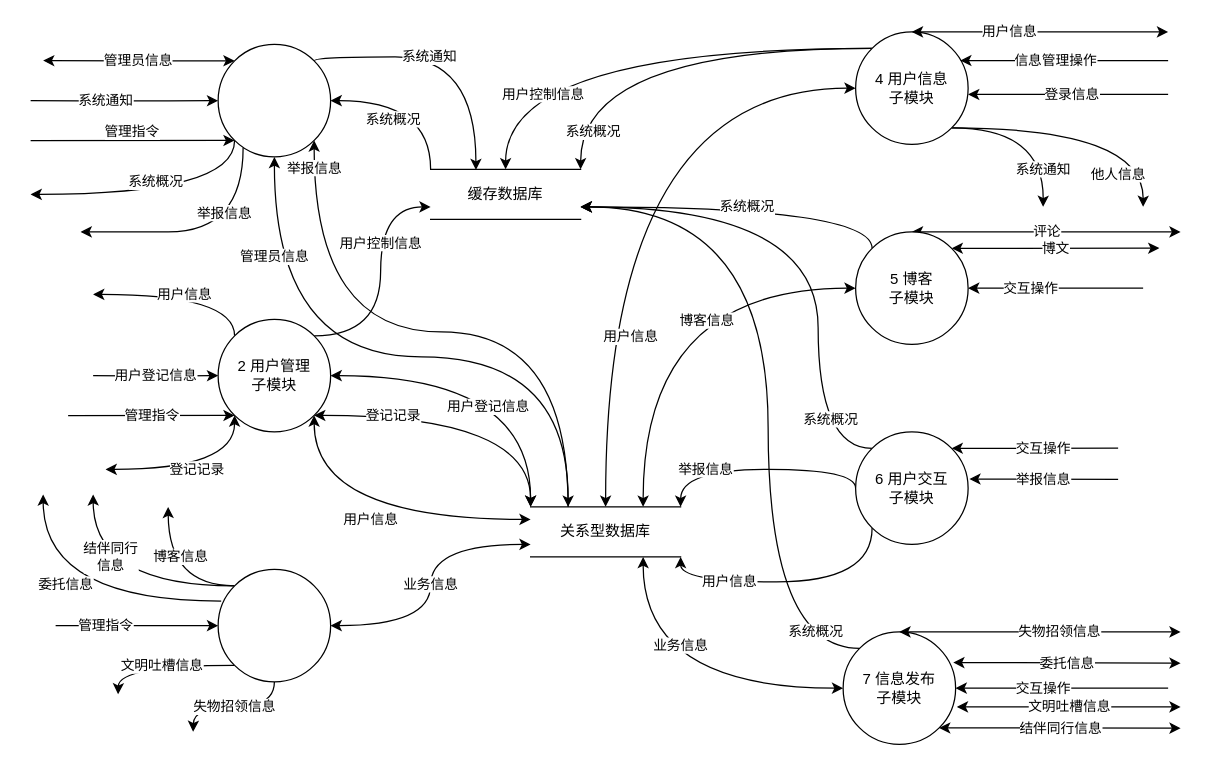
Some shapes in this 1214 by 766 pixel diagram are drawn without their labels. The shapes that lost their labels are listed below. From the top down, each one's centre as x and y in pixels, then its label:
At point 274,100: "1 系统控制 子模块".
At point 274,625: "3 业务管理 子模块".
